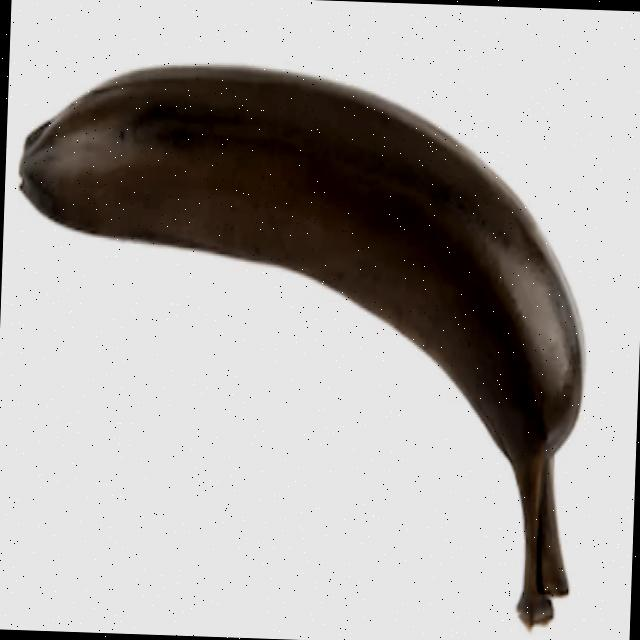Rotten: (0, 39, 613, 640)
